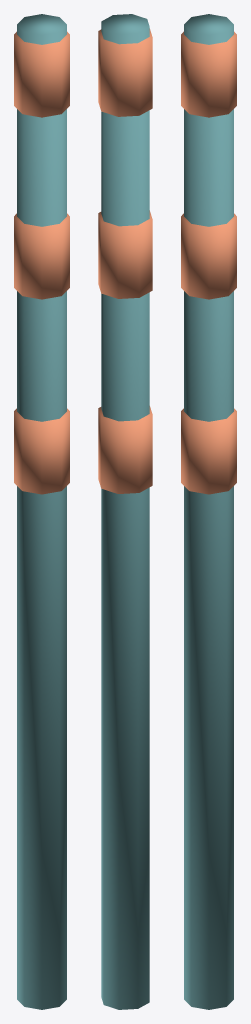
The model's file is BoundaryMarker.fbx.
3 renders of one model, left to right at view 1: azimuth 90°, elevation 25°; view 2: azimuth 210°, elevation 25°; view 3: azimuth 270°, elevation 25°, orthographic.
Visible parts, largest first — view 1: Visual_BoundaryMarker; view 2: Visual_BoundaryMarker; view 3: Visual_BoundaryMarker.
Boxes of the visible parts, x1=… form: Visual_BoundaryMarker: x1=14, y1=14, x2=69, y2=1009; Visual_BoundaryMarker: x1=98, y1=14, x2=152, y2=1009; Visual_BoundaryMarker: x1=181, y1=14, x2=236, y2=1009.
Size of the model in its own units: 0.078 by 1.5 by 0.078.
